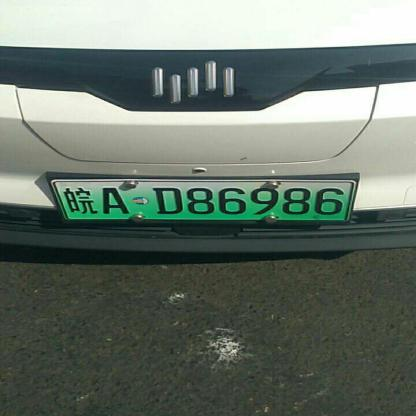lp: (54, 182, 69, 219)
